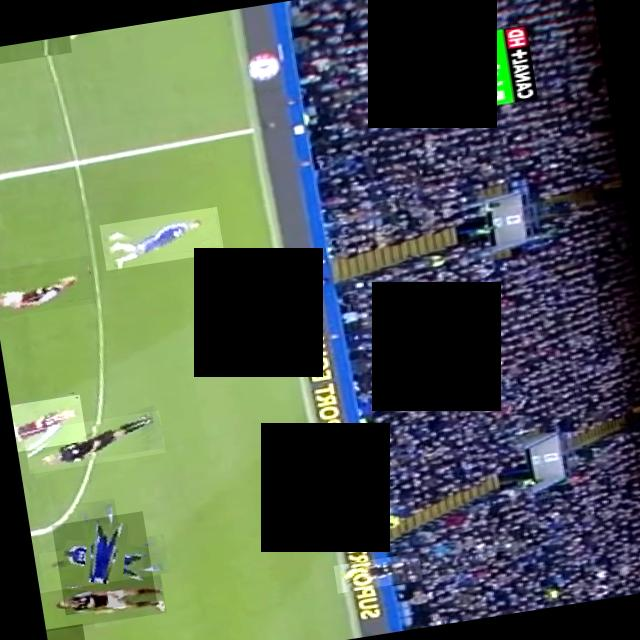referee: (22, 410, 165, 474), (333, 552, 422, 594)
soccer-player: (51, 512, 156, 616), (99, 207, 224, 271), (39, 574, 166, 632), (0, 255, 96, 318), (10, 395, 86, 452), (0, 35, 71, 70), (45, 624, 89, 640)
